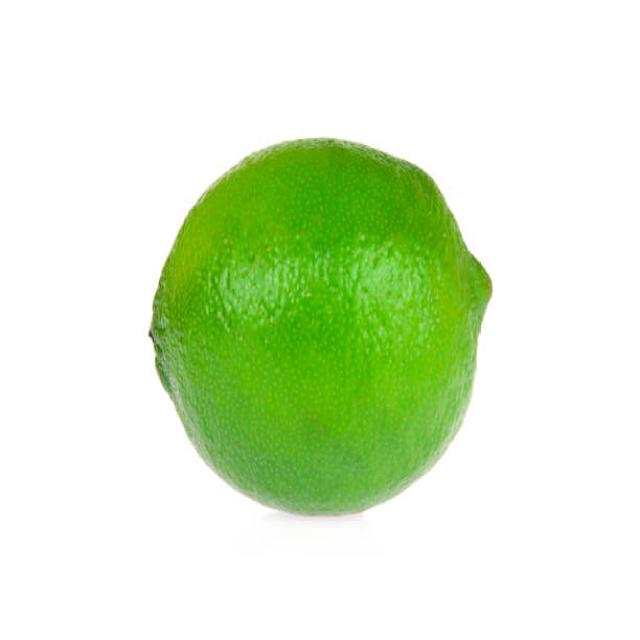Unripe: (148, 134, 492, 517)
